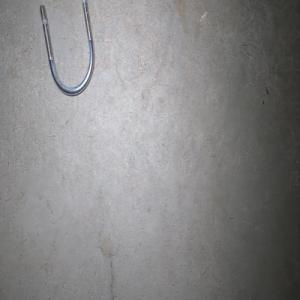ClampPart: (39, 0, 95, 97)
